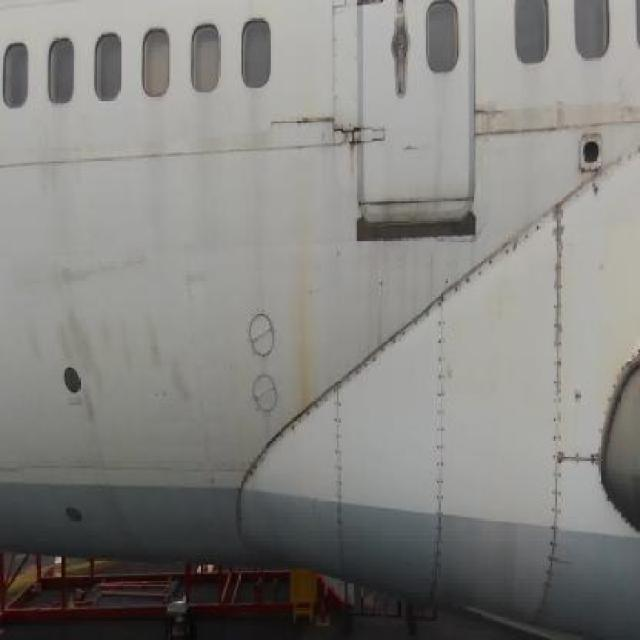Missing-Rivet: (539, 191, 567, 617), (430, 285, 459, 604), (344, 305, 430, 392), (463, 222, 539, 306), (260, 397, 332, 461), (326, 376, 348, 572), (570, 441, 599, 496)
Rust: (287, 174, 321, 423)
Scartch: (5, 306, 196, 448), (9, 240, 154, 305), (476, 91, 573, 147), (180, 256, 220, 306)
